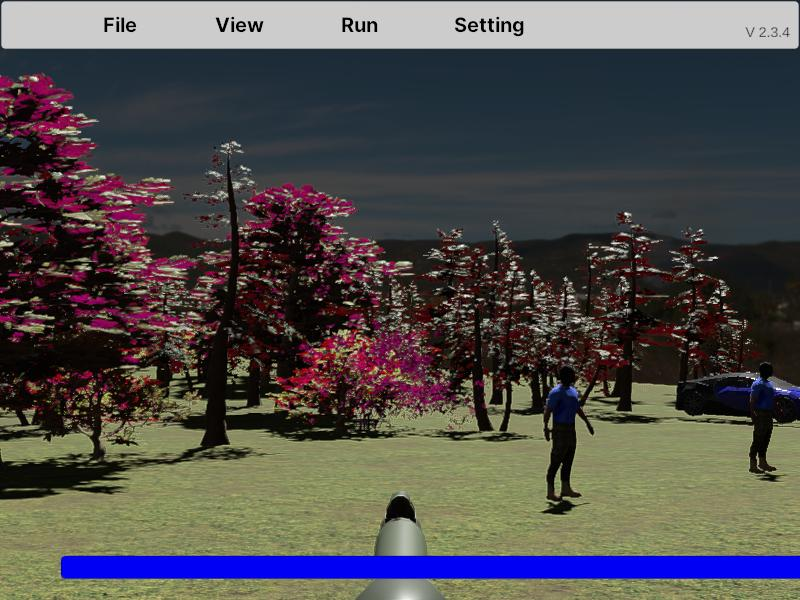Human: (543, 365, 594, 500), (749, 359, 782, 473)
car: (675, 370, 800, 419)
